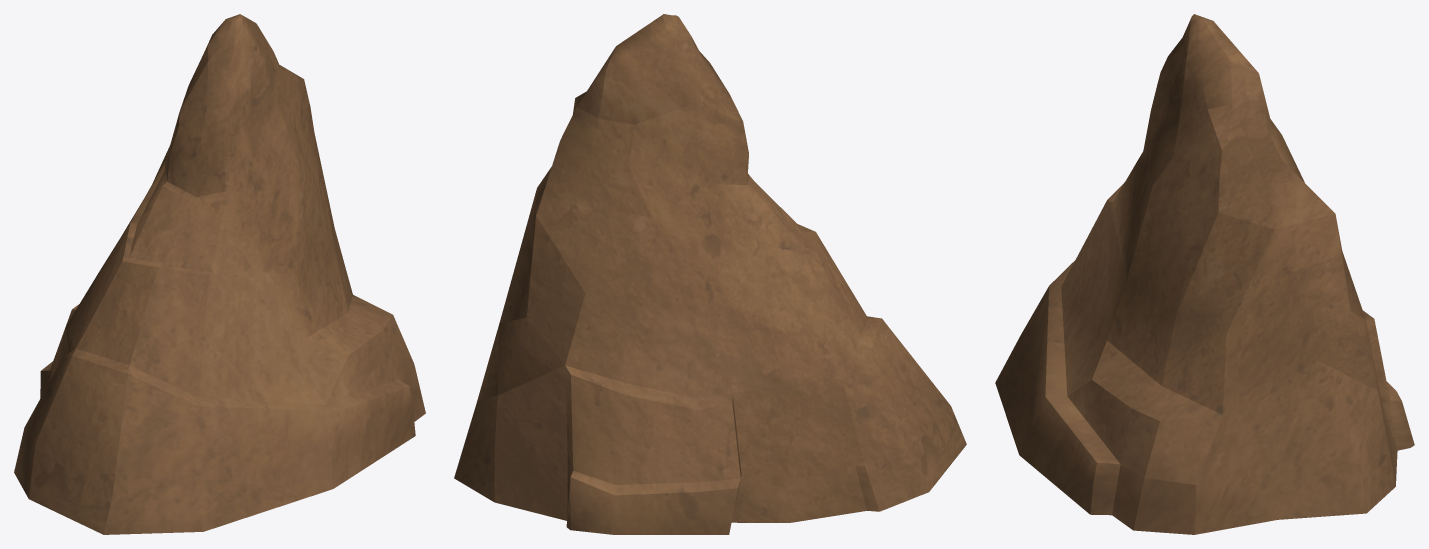
The model's file is Stone2.fbx.
The picture shows the model from 3 angles, left to right: view 1: azimuth 30°, elevation 25°; view 2: azimuth 150°, elevation 25°; view 3: azimuth 270°, elevation 25°; orthographic projection. The views are drawn at different scales.
Visible parts, largest first — view 1: Box001; view 2: Box001; view 3: Box001.
Boxes of the visible parts, x1,y1,x2,y2 form: Box001: (14, 14, 425, 534); Box001: (454, 14, 966, 534); Box001: (995, 14, 1414, 534).
Bounding box in the file's own units: 214 × 214 × 188.
1 material, 1 textured.
